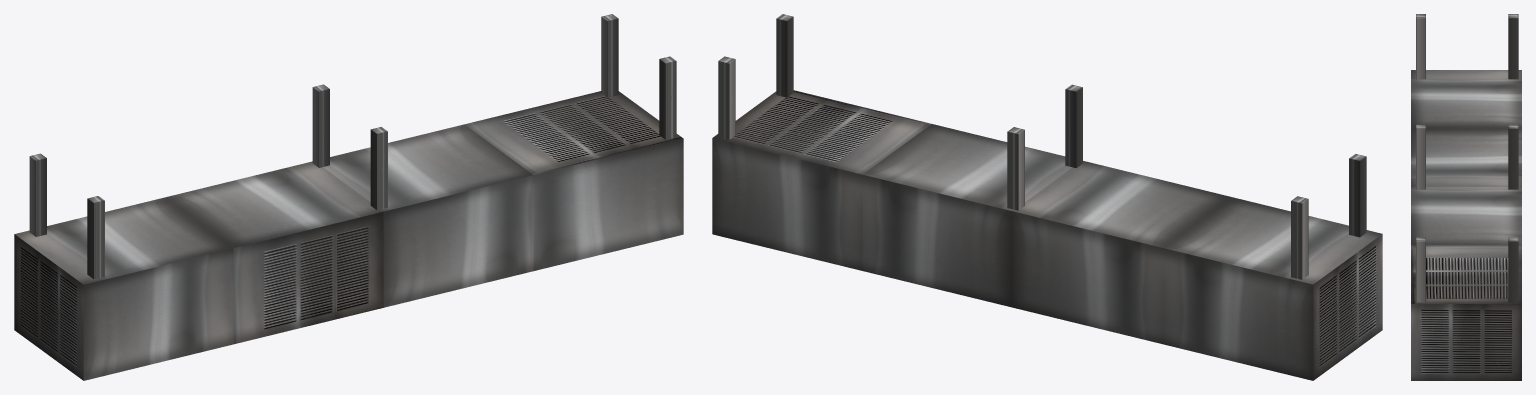
Rendered from vent.fbx.
The picture shows the model from 3 angles, left to right: view 1: azimuth 30°, elevation 25°; view 2: azimuth 150°, elevation 25°; view 3: azimuth 270°, elevation 25°; orthographic projection. The views are drawn at different scales.
Parts seen in each view (by area): view 1: Cube; view 2: Cube; view 3: Cube.
Boxes of the visible parts, <box> form: Cube: <box>14,14,683,380</box>; Cube: <box>712,14,1382,380</box>; Cube: <box>1411,14,1521,380</box>.
Size of the model in its own units: 562 by 154 by 113.
